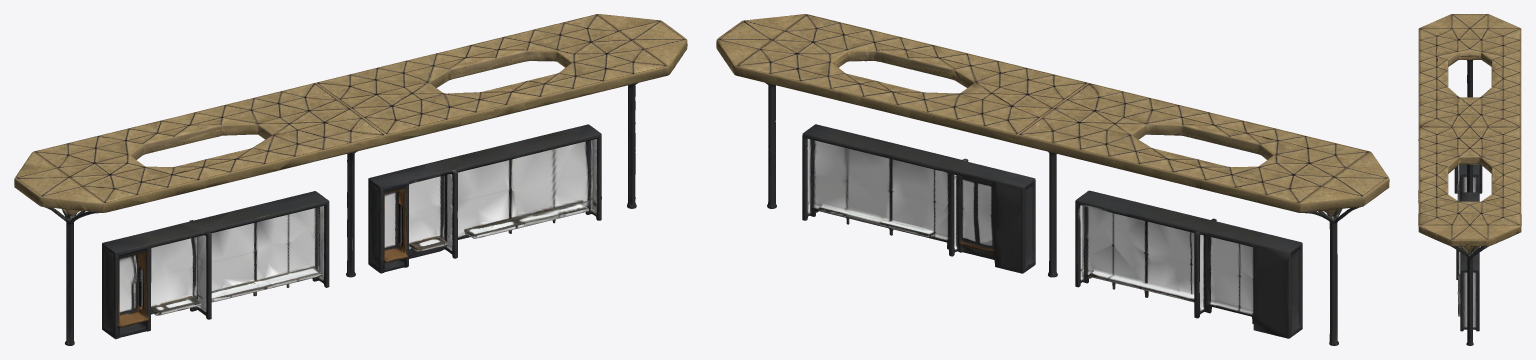
File: tramstop.glb
The picture shows the model from 3 angles, left to right: view 1: azimuth 30°, elevation 25°; view 2: azimuth 150°, elevation 25°; view 3: azimuth 270°, elevation 25°; orthographic projection. The views are drawn at different scales.
Parts seen in each view (by area): view 1: mesh_node; view 2: mesh_node; view 3: mesh_node.
Part boxes in pixels (x1=…): mesh_node: x1=14, y1=14, x2=687, y2=345; mesh_node: x1=716, y1=14, x2=1389, y2=345; mesh_node: x1=1418, y1=14, x2=1521, y2=345.
Bounding box in the file's own units: 1.9 × 0.4699 × 0.366.
Materials: 1 (1 with a texture image).
